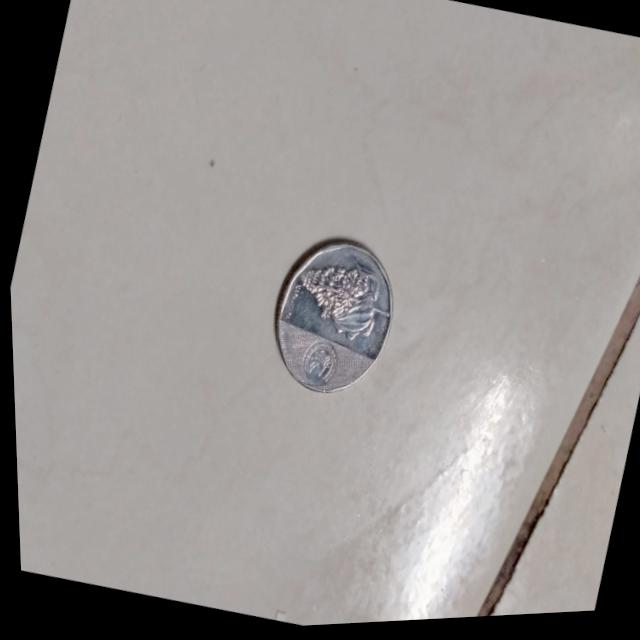10_New_Back: (267, 248, 389, 398)
